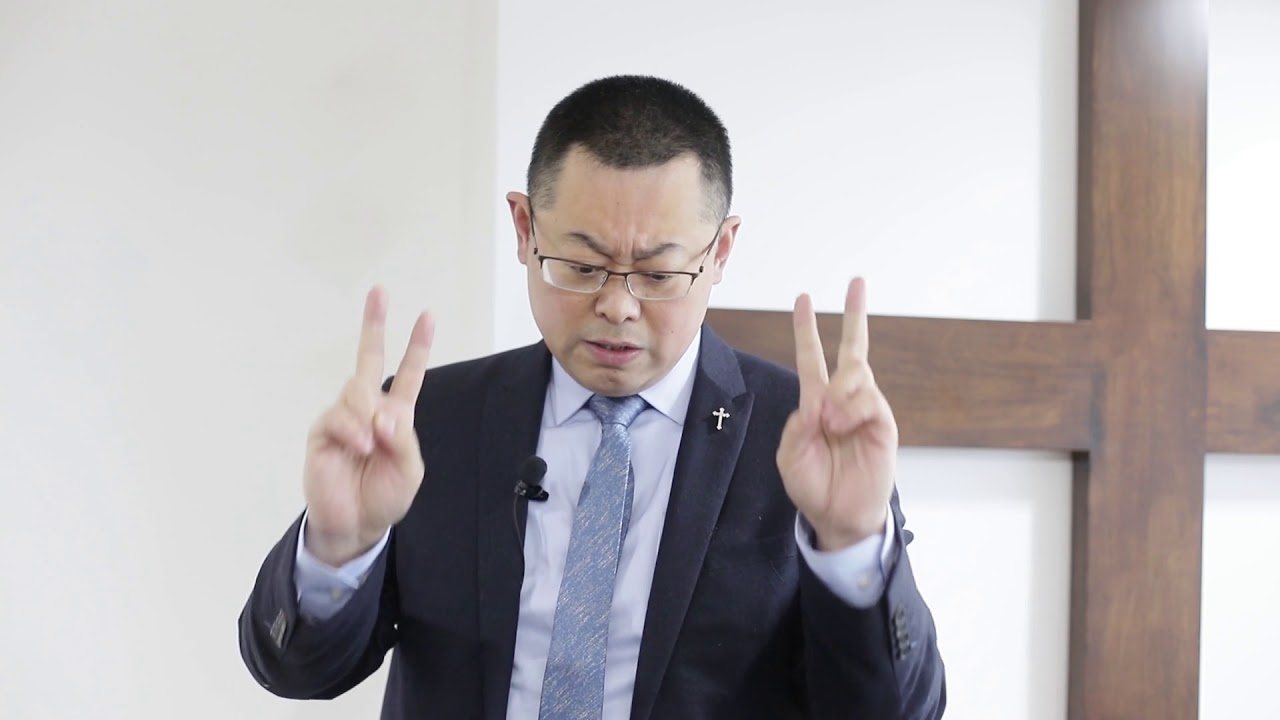v_s: (292, 271, 446, 545), (763, 269, 908, 536)
